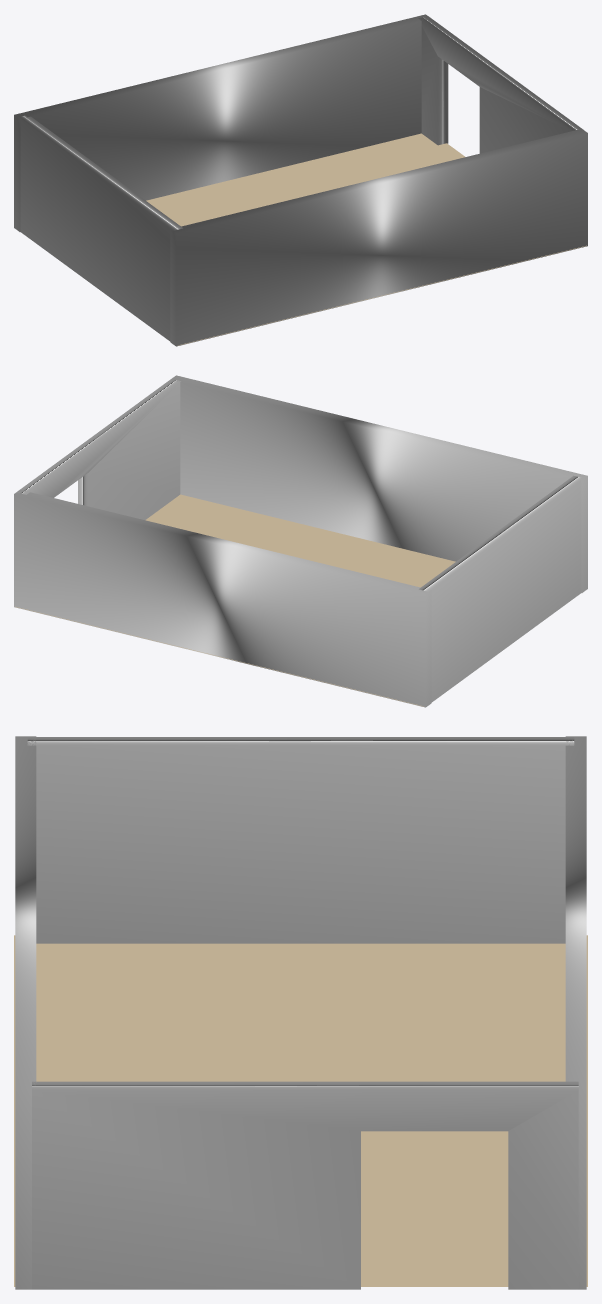
File: room3.fbx
3 renders of one model, top to bottom at view 1: azimuth 30°, elevation 25°; view 2: azimuth 150°, elevation 25°; view 3: azimuth 270°, elevation 25°, orthographic. The views are drawn at different scales.
Visible parts, largest first — view 1: Cube.002; view 2: Cube.002; view 3: Cube.002.
Part boxes in pixels (<box>): Cube.002: <box>14,14,587,346</box>; Cube.002: <box>14,375,587,707</box>; Cube.002: <box>14,736,587,1289</box>.
Bounding box in the file's own units: 11.38 × 2.99 × 7.8.
